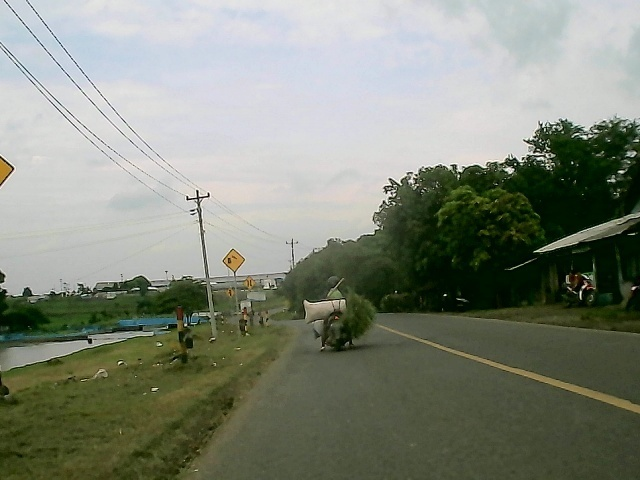Jembatan: (242, 276, 258, 291)
Peringatan tepi air: (221, 248, 246, 272)
